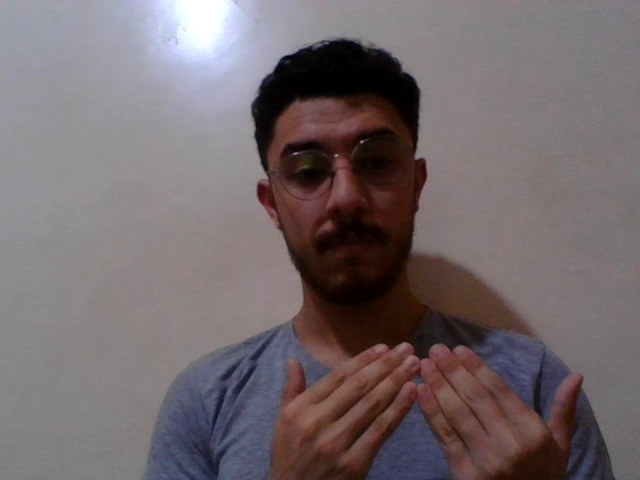Thank You: (258, 338, 597, 480)
